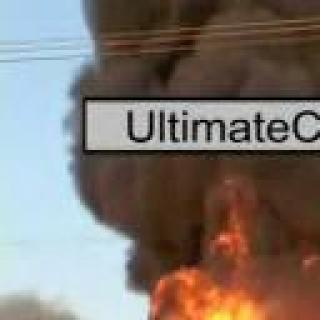fire: (155, 225, 320, 320)
